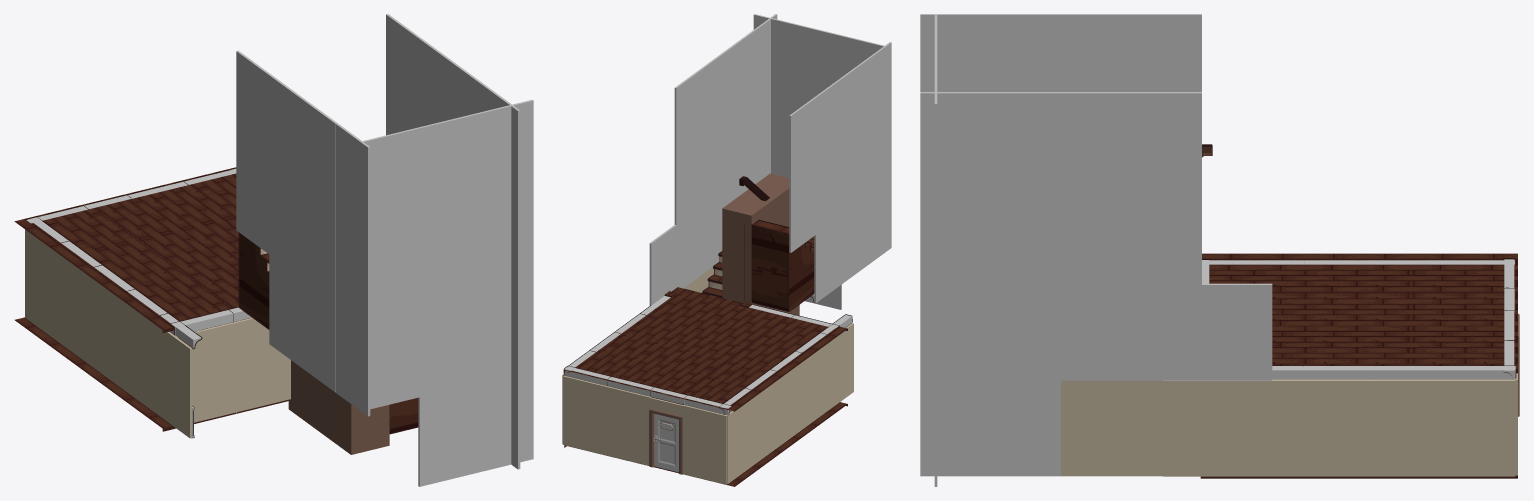
The model's file is Giriş.fbx.
3 renders of one model, left to right at view 1: azimuth 30°, elevation 25°; view 2: azimuth 150°, elevation 25°; view 3: azimuth 270°, elevation 25°, orthographic. The views are drawn at different scales.
Parts seen in each view (by area): view 1: Cube.070, Cube.069, W.031, W.064, W.066, W.068, Cube.068, Cube.063, W.069, W.063, W.036, W.065 (+33 smaller); view 2: Cube.068, Cube.063, Cube.059, Cube.069, Cube.070, W.006, W.002, W.001, W.064, W.069, W.079, W.081 (+39 smaller); view 3: Cube.068, Cube.069, W.003, Cube.070, W.007, W.008, W.020, W.009, W.045, W.073, W.078, W.079 (+22 smaller).
Boxes of the visible parts, bbox=[...] form: Cube.070: bbox=[64, 239, 232, 332]; Cube.069: bbox=[89, 167, 236, 239]; W.031: bbox=[418, 383, 476, 486]; W.064: bbox=[418, 113, 476, 217]; W.066: bbox=[419, 204, 476, 307]; W.068: bbox=[419, 294, 476, 396]; Cube.068: bbox=[138, 215, 238, 308]; Cube.063: bbox=[288, 360, 389, 454]; W.069: bbox=[475, 99, 533, 203]; W.063: bbox=[362, 127, 419, 229]; W.036: bbox=[476, 369, 533, 472]; W.065: bbox=[370, 218, 419, 319]; Cube.068: bbox=[608, 287, 787, 369]; Cube.063: bbox=[722, 173, 799, 315]; Cube.059: bbox=[744, 219, 814, 311]; Cube.069: bbox=[564, 344, 715, 397]; Cube.070: bbox=[716, 317, 847, 383]; W.006: bbox=[682, 405, 727, 484]; W.002: bbox=[562, 376, 606, 455]; W.001: bbox=[606, 386, 650, 465]; W.064: bbox=[797, 24, 841, 97]; W.069: bbox=[753, 14, 797, 93]; W.079: bbox=[674, 69, 701, 156]; W.081: bbox=[674, 138, 701, 224]; Cube.068: bbox=[1272, 292, 1412, 365]; Cube.069: bbox=[1412, 292, 1517, 373]; W.003: bbox=[1444, 379, 1515, 476]; Cube.070: bbox=[1202, 253, 1412, 292]; W.007: bbox=[1374, 379, 1444, 476]; W.008: bbox=[1304, 379, 1374, 476]; W.020: bbox=[1202, 283, 1272, 380]; W.009: bbox=[1233, 379, 1303, 476]; W.045: bbox=[1061, 380, 1131, 476]; W.073: bbox=[990, 92, 1060, 188]; W.078: bbox=[1061, 92, 1131, 188]; W.079: bbox=[1131, 92, 1201, 188].
Size of the model in its own units: 17.28 by 24.8 by 34.04.
